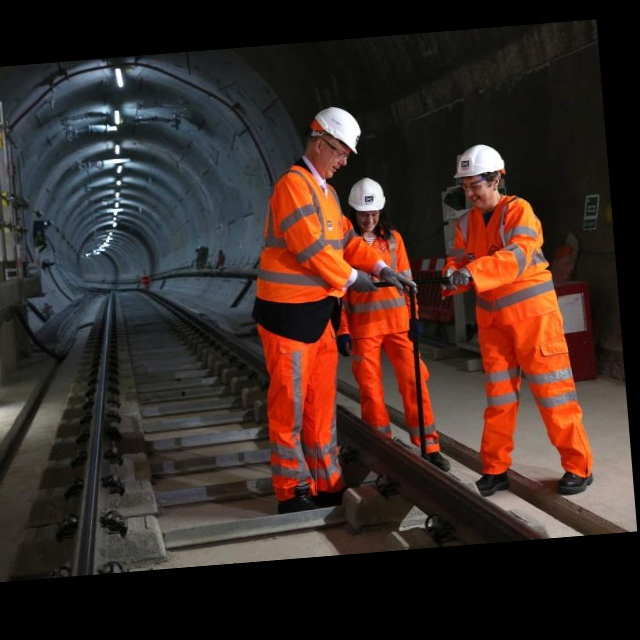Con_Chaleco: (247, 162, 348, 298), (447, 198, 555, 316), (335, 225, 415, 340)
